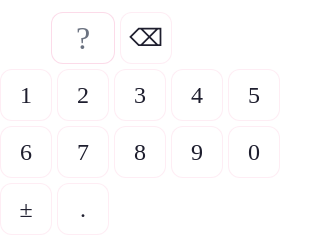
NumberPad allowNegative › pressing ± on value "5" changes display to "-5"
Click the text "5": (254, 95) [248,82,260,108]
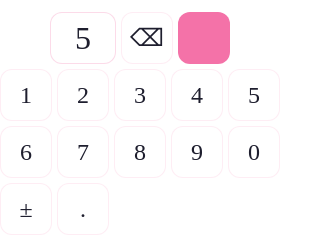
Click the text "±": (26, 209) [19,196,33,222]
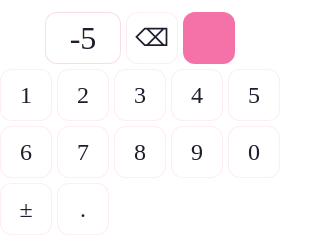
Expected: the text with test id "numberpad-display" reads "-5", [70,20,96,56]
